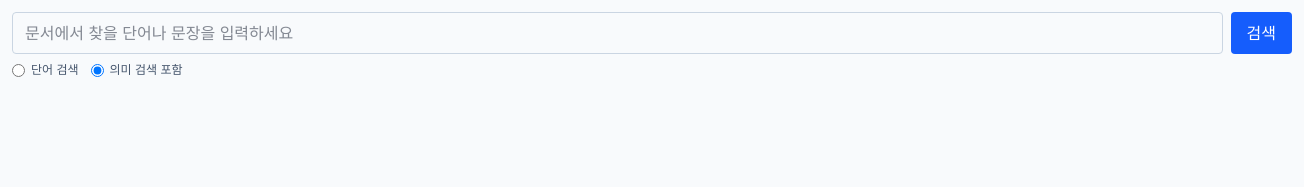
Test: DocumentSearch › 검색 결과가 없으면 안내 문구를 보여준다
Type "존재하지않는단어" into the search field at (617, 33), box [12,12,1222,54]
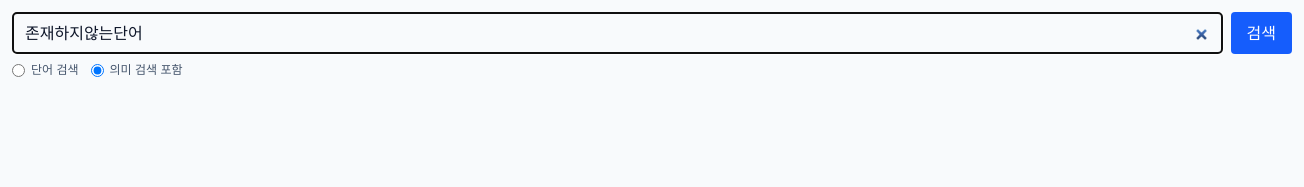
Click the button "검색" at (1261, 33), box [1230,12,1292,54]
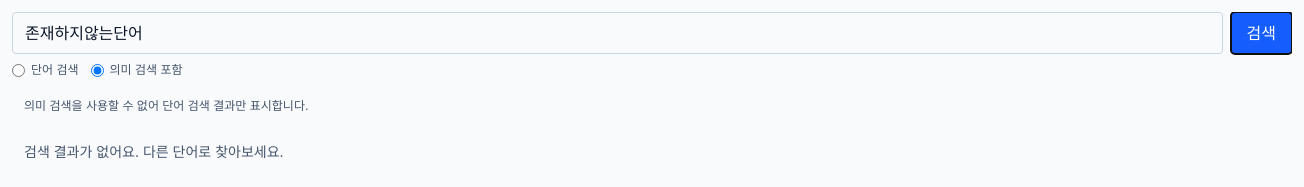
Expected: the text "검색 결과가 없어요. 다른 단어로 찾아보세요." is shown, [12,134,1292,170]
